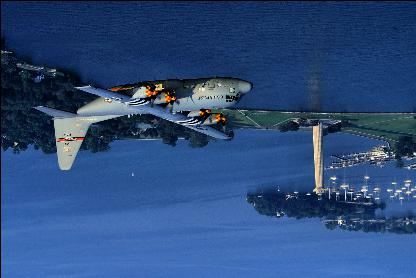Be200: (32, 74, 252, 168)
